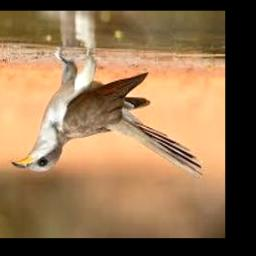Cuckoo: (11, 52, 202, 180)
